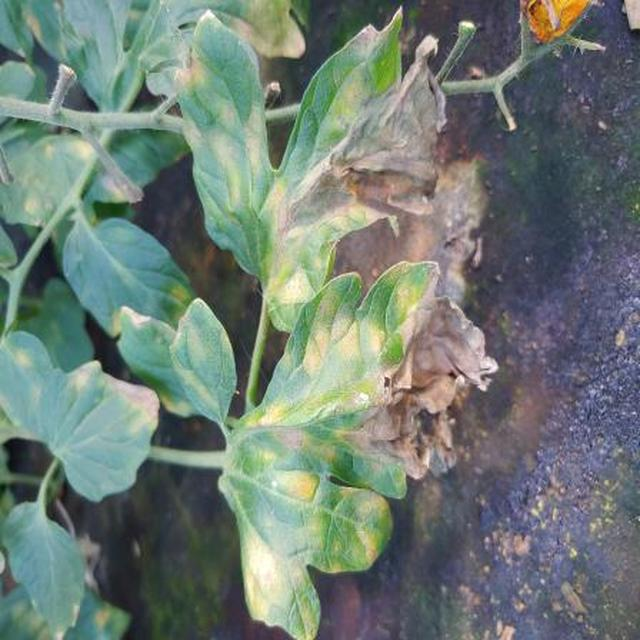Leaf Mold: (98, 182, 512, 640)
